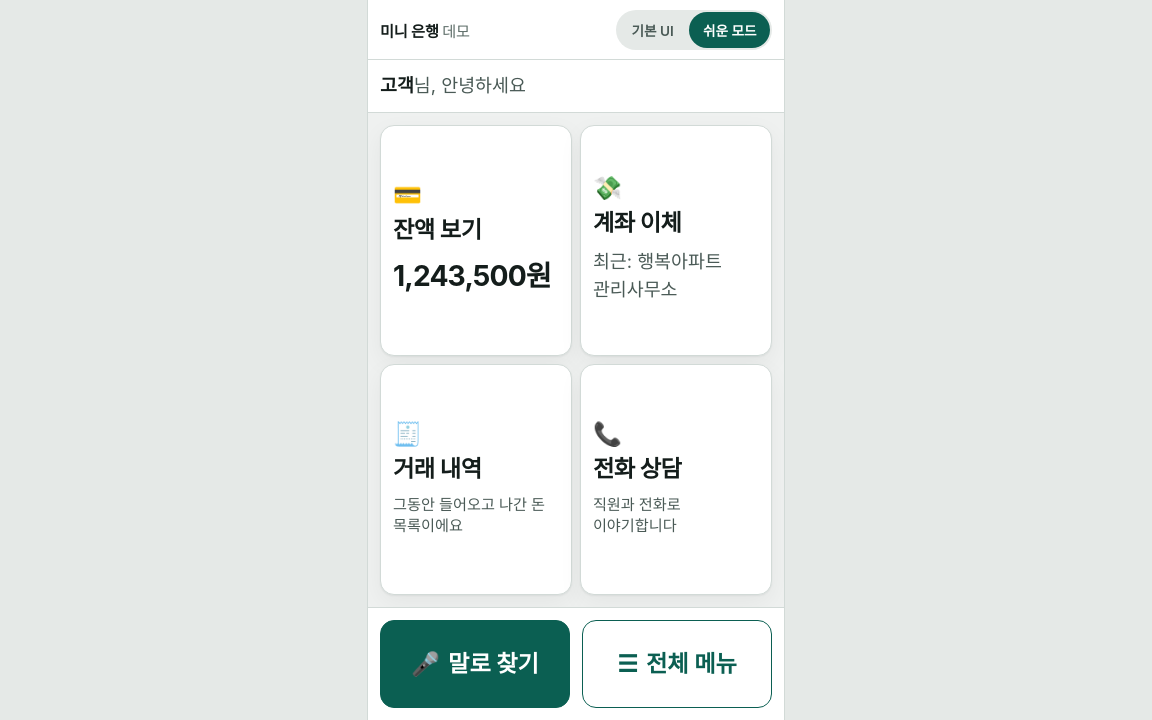
Scenario: 두 모드가 같은 기능을 쓴다 (기획안 §12.2 변수 통제) › 두 모드 모두 25개 메뉴 전부에 도달할 수 있다 (원칙 P2)
Check: the element named "화면 방식" is shown, box [616,10,772,50]
Step 1. Click the button "☰ 전체 메뉴" → {"x": 677, "y": 664}, box [582,620,772,708]
(page scrolled)
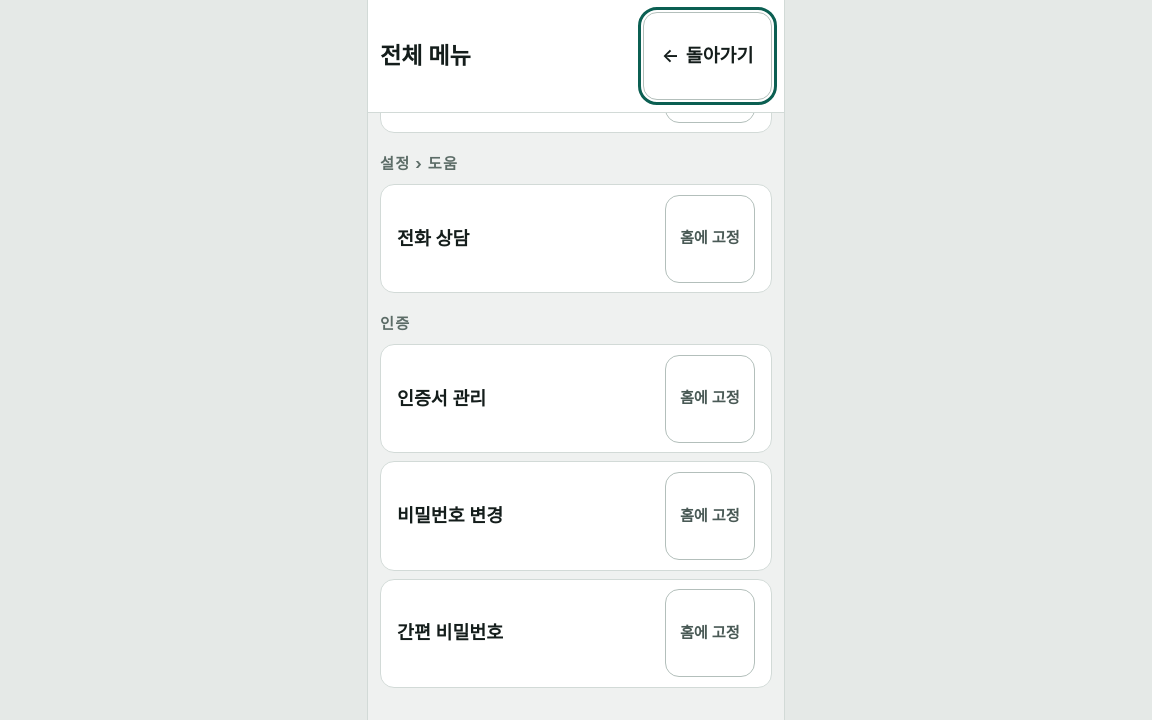
Check: the button "전화 상담" is shown, box [397,195,652,283]
Check: the button "인증서 관리" is shown, box [397,355,652,443]
Check: the button "비밀번호 변경" is shown, box [397,472,652,560]
